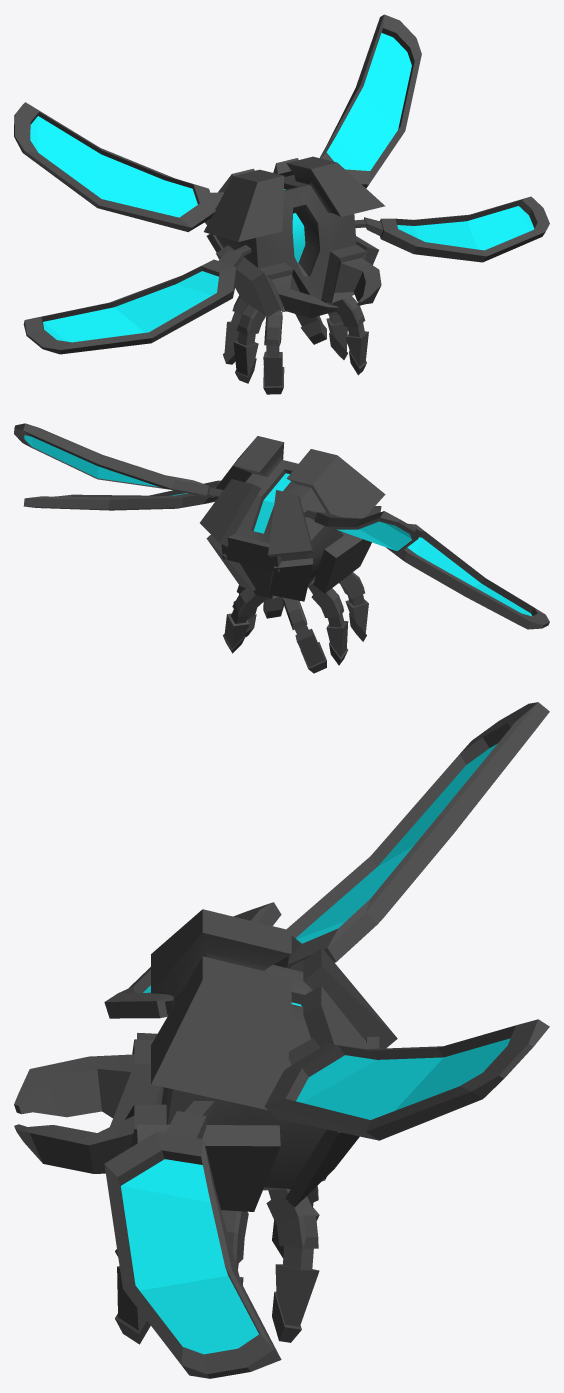
File: BUGMODEL.fbx
The picture shows the model from 3 angles, top to bottom: view 1: azimuth 30°, elevation 25°; view 2: azimuth 150°, elevation 25°; view 3: azimuth 270°, elevation 25°; orthographic projection. The views are drawn at different scales.
Parts seen in each view (by area): view 1: Body, Wing1Left, Wing2Left, Wing1Right, Wing2Right, LegRight.001, LegRight, LegLeft, LegRight.002, LegLeft.001, LegLeft.002; view 2: Body, Wing2Left, Wing1Right, Wing2Right, Wing1Left, LegRight.001, LegRight.002, LegLeft.002, LegRight, LegLeft; view 3: Body, Wing2Right, Wing1Right, Wing1Left, LegLeft.002, Wing2Left, LegLeft, LegLeft.001.
Part boxes in pixels (left/top/right/bottom): Body: left=204, top=156, right=385, bottom=318; Wing1Left: left=14, top=102, right=224, bottom=232; Wing2Left: left=23, top=245, right=251, bottom=354; Wing1Right: left=320, top=14, right=421, bottom=188; Wing2Right: left=355, top=196, right=549, bottom=262; LegRight.001: left=233, top=304, right=265, bottom=383; LegRight: left=263, top=309, right=284, bottom=394; LegLeft: left=332, top=296, right=368, bottom=375; LegRight.002: left=223, top=295, right=247, bottom=364; LegLeft.001: left=326, top=302, right=347, bottom=359; LegLeft.002: left=295, top=314, right=326, bottom=344; Body: left=200, top=436, right=385, bottom=601; Wing2Left: left=386, top=523, right=549, bottom=629; Wing1Right: left=14, top=423, right=223, bottom=497; Wing2Right: left=23, top=480, right=220, bottom=510; Wing1Left: left=303, top=510, right=421, bottom=552; LegRight.001: left=308, top=583, right=348, bottom=665; LegRight.002: left=281, top=597, right=326, bottom=673; LegLeft.002: left=223, top=588, right=267, bottom=653; LegRight: left=339, top=572, right=368, bottom=641; LegLeft: left=263, top=597, right=283, bottom=618; Body: left=14, top=909, right=397, bottom=1211; Wing2Right: left=104, top=1101, right=281, bottom=1378; Wing1Right: left=264, top=1019, right=549, bottom=1140; Wing1Left: left=286, top=702, right=549, bottom=971; LegLeft.002: left=266, top=1189, right=319, bottom=1342; Wing2Left: left=104, top=902, right=281, bottom=1018; LegLeft: left=115, top=1266, right=150, bottom=1344; LegLeft.001: left=221, top=1210, right=248, bottom=1285.
Size of the model in its own units: 341 by 157 by 169.
